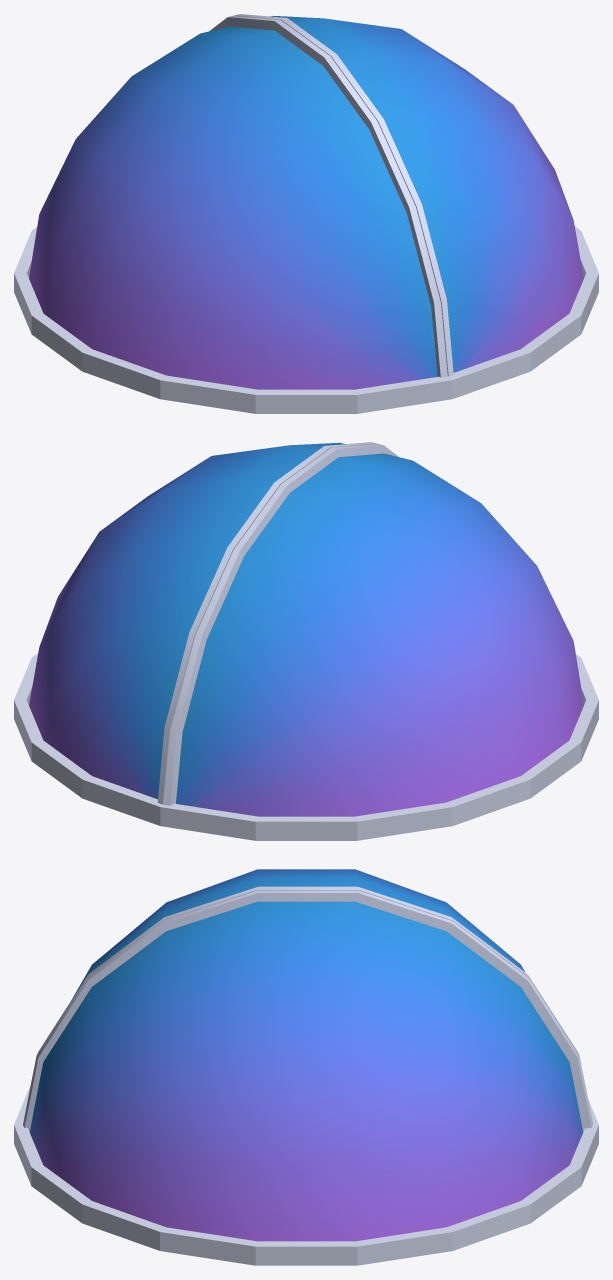
File: Gates.fbx
3 views of the same model, one above another, from view 1: azimuth 30°, elevation 25°; view 2: azimuth 150°, elevation 25°; view 3: azimuth 270°, elevation 25° (orthographic).
Visible parts, largest first — view 1: Sphere.003, Sphere, Gates, Sphere.004, Sphere.002; view 2: Sphere.003, Sphere, Gates, Sphere.004, Sphere.002; view 3: Sphere, Gates, Sphere.002, Sphere.003, Sphere.004.
Part boxes in pixels (<box>): Sphere.003: <box>29,26,437,389</box>; Sphere: <box>270,15,583,372</box>; Gates: <box>14,226,598,413</box>; Sphere.004: <box>209,15,447,377</box>; Sphere.002: <box>234,14,453,376</box>; Sphere.003: <box>176,453,583,816</box>; Sphere: <box>29,442,345,799</box>; Gates: <box>14,653,598,840</box>; Sphere.004: <box>163,444,398,805</box>; Sphere.002: <box>157,442,377,804</box>; Sphere: <box>29,901,583,1241</box>; Gates: <box>14,1085,598,1265</box>; Sphere.002: <box>23,890,592,1131</box>; Sphere.003: <box>73,869,525,997</box>; Sphere.004: <box>24,886,592,1121</box>.
Bounding box in the file's own units: 2.06 × 1.01 × 2.09.
1 material, 1 textured.
